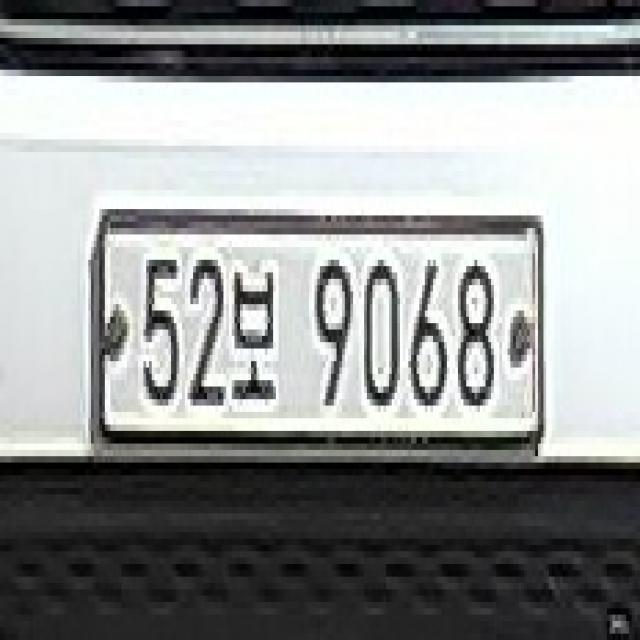0: (358, 258, 404, 414)
2: (186, 246, 229, 412)
5: (140, 244, 183, 411)
6: (409, 260, 446, 418)
8: (450, 255, 496, 410)
9: (312, 243, 352, 420)
bo: (232, 258, 284, 419)
license_plate: (88, 192, 543, 462)
